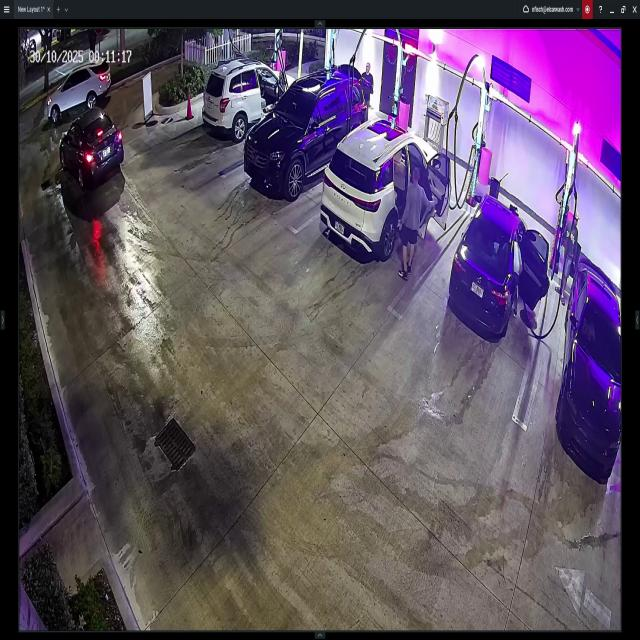Car: (322, 115, 448, 256), (247, 70, 368, 196), (450, 191, 549, 337), (557, 254, 620, 469), (202, 58, 296, 127), (60, 108, 125, 186), (46, 63, 111, 120)
